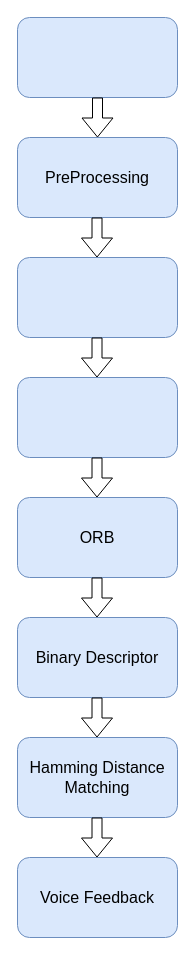
The diagram is 195 pixels wide and 955 high, and some of its shapes have lost their labels. The centre of each missing label's shape, as x and y in pixels:
Image: the point at 97,57
ROI extraction: the point at 97,417
Segmentation: the point at 97,297
